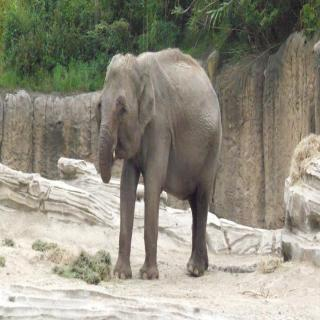Elephant: (95, 42, 223, 287)
